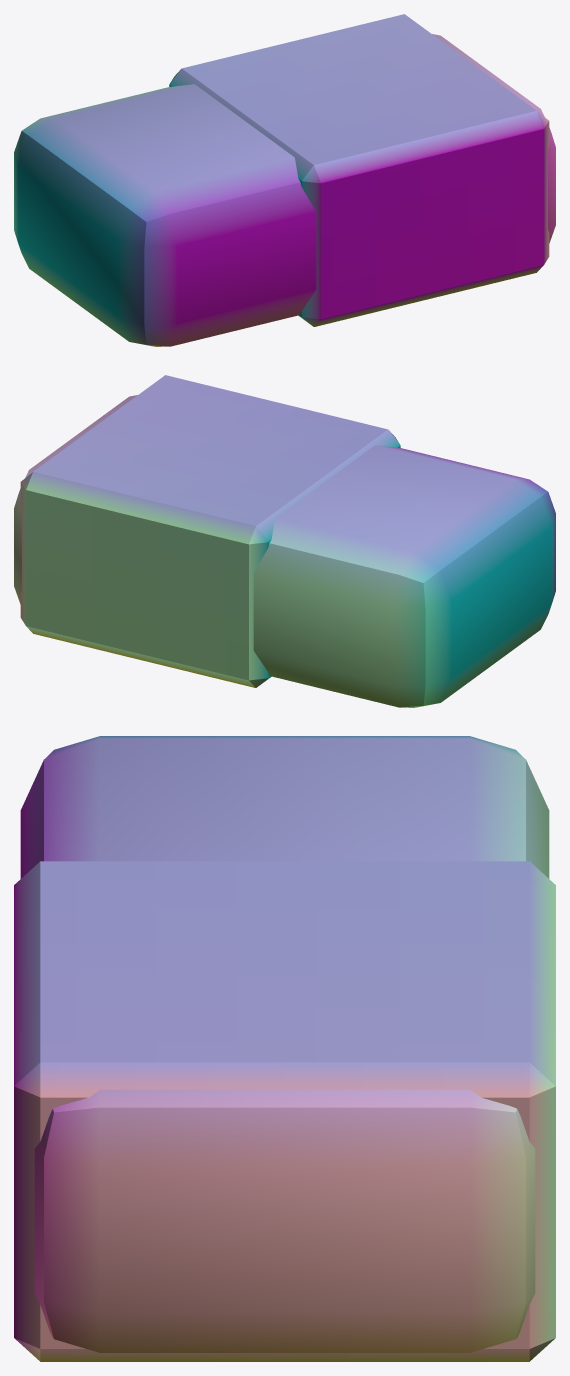
The model's file is env_deco_eraser.glb.
3 views of the same model, one above another, from view 1: azimuth 30°, elevation 25°; view 2: azimuth 150°, elevation 25°; view 3: azimuth 270°, elevation 25° (orthographic). The views are drawn at different scales.
Parts seen in each view (by area): view 1: env_deco_eraser_mesh; view 2: env_deco_eraser_mesh; view 3: env_deco_eraser_mesh.
Part boxes in pixels (<box>): env_deco_eraser_mesh: <box>14,14,555,346</box>; env_deco_eraser_mesh: <box>14,375,555,707</box>; env_deco_eraser_mesh: <box>14,736,555,1361</box>.
Bounding box in the file's own units: 0.35 × 0.125 × 0.205.
